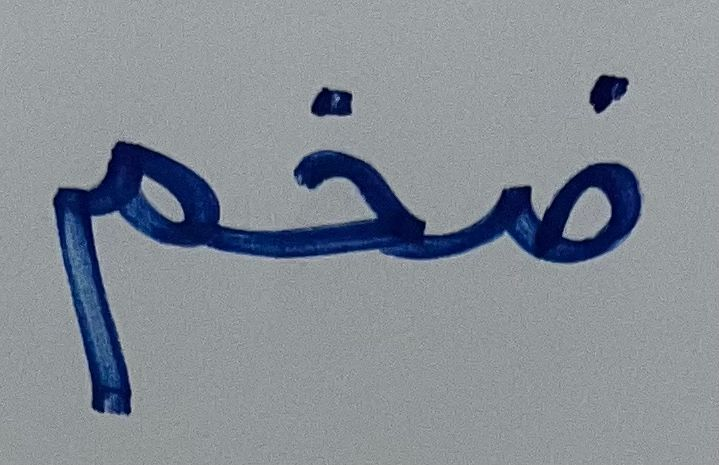dad: (453, 56, 666, 294)
khah: (237, 60, 439, 301)
meem: (19, 96, 229, 424)
